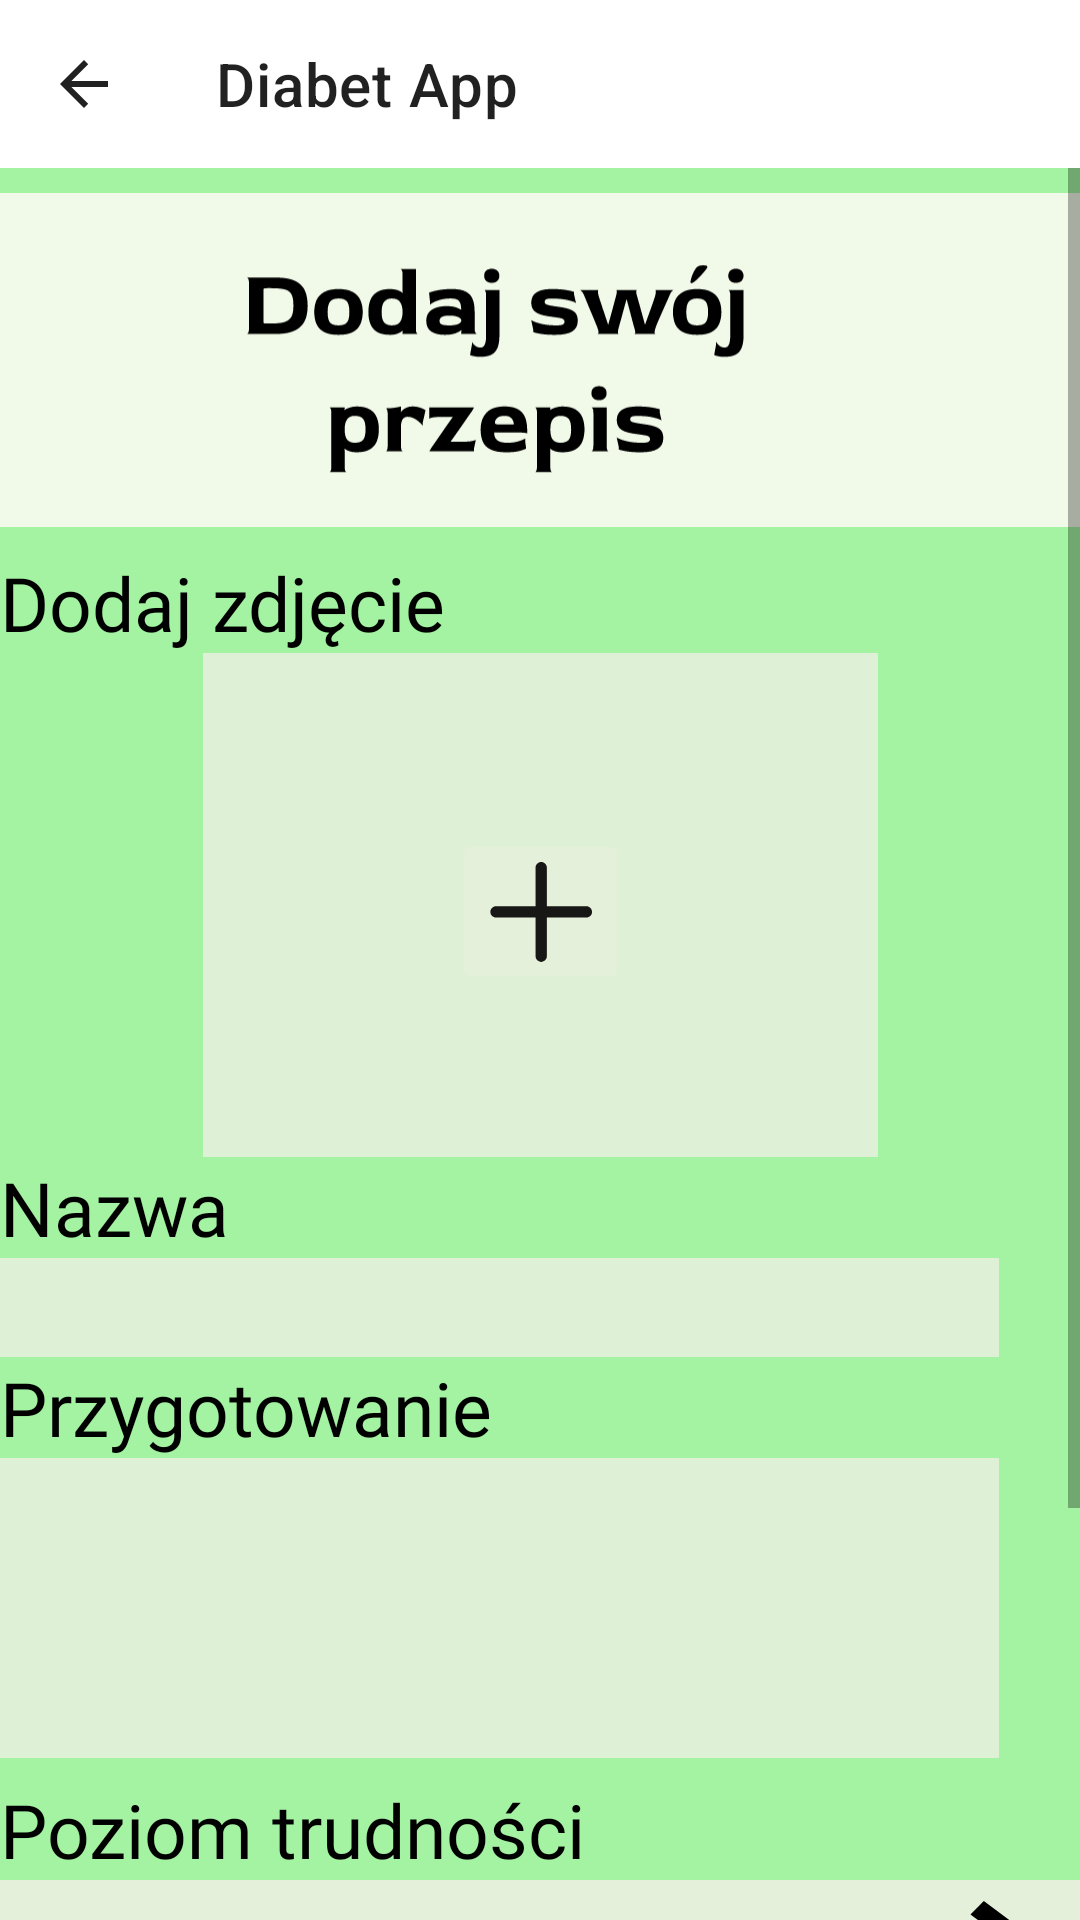

Icon click points for this 1080 × 1920 phone screenshot, format point (x, y):
plusodzdjecia: point (541, 912)
